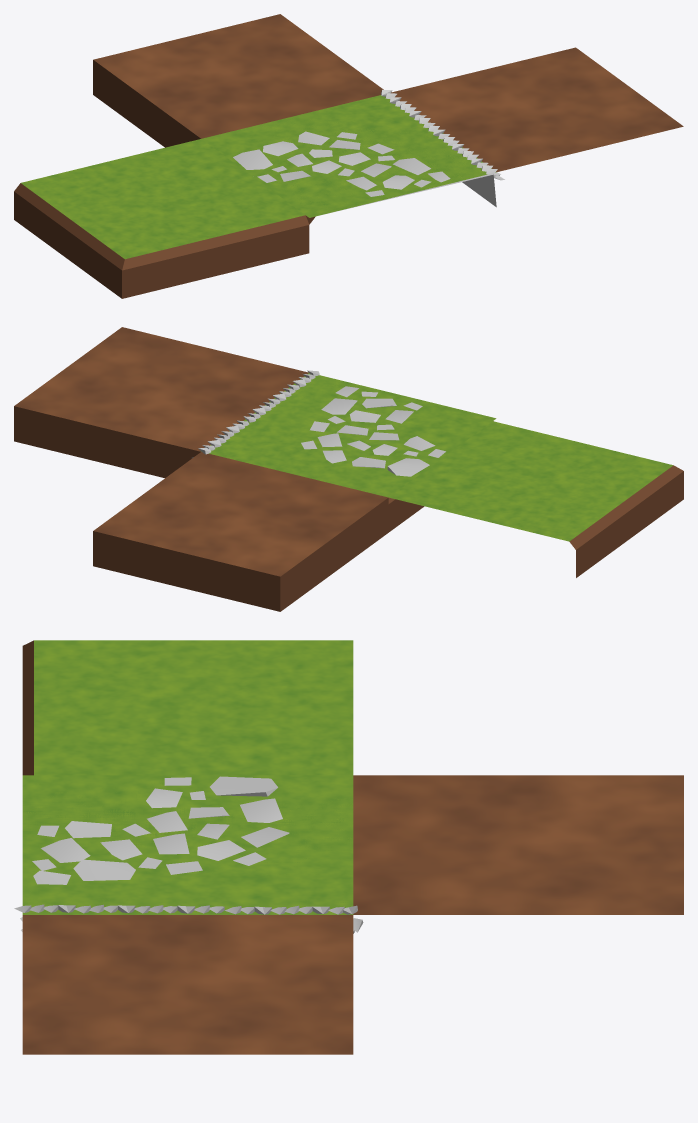
Rendered from Ground_Tiles.fbx.
The picture shows the model from 3 angles, top to bottom: view 1: azimuth 30°, elevation 25°; view 2: azimuth 150°, elevation 25°; view 3: azimuth 270°, elevation 25°; orthographic projection. The views are drawn at different scales.
Visible parts, largest first — view 1: grass_tile_corner, ground_tile_corner, ground_tile_side, road_tile_center_straight, grass_tile_side, road_tile_side_turn_right, grass_tile_center; view 2: ground_tile_corner, ground_tile_side, grass_tile_corner, grass_tile_center, road_tile_center_straight, road_tile_side_turn_right, grass_tile_side; view 3: ground_tile_side, ground_tile_corner, grass_tile_corner, grass_tile_side, road_tile_center_straight, road_tile_side_turn_right, grass_tile_center.
Part boxes in pixels (left/top/right/bottom): grass_tile_corner: left=14, top=139, right=309, bottom=298; ground_tile_corner: left=93, top=14, right=383, bottom=147; ground_tile_side: left=391, top=47, right=683, bottom=171; road_tile_center_straight: left=201, top=108, right=495, bottom=217; grass_tile_side: left=251, top=95, right=491, bottom=224; road_tile_side_turn_right: left=233, top=89, right=504, bottom=215; grass_tile_center: left=250, top=127, right=483, bottom=217; ground_tile_corner: left=93, top=452, right=388, bottom=611; ground_tile_side: left=14, top=327, right=308, bottom=477; grass_tile_corner: left=389, top=421, right=683, bottom=577; grass_tile_center: left=201, top=373, right=496, bottom=483; road_tile_center_straight: left=241, top=373, right=487, bottom=497; road_tile_side_turn_right: left=192, top=370, right=445, bottom=476; grass_tile_side: left=301, top=375, right=493, bottom=532; ground_tile_side: left=22, top=915, right=353, bottom=1054; ground_tile_corner: left=353, top=775, right=683, bottom=914; grass_tile_corner: left=22, top=640, right=353, bottom=775; grass_tile_side: left=22, top=780, right=353, bottom=914; road_tile_center_straight: left=22, top=775, right=353, bottom=914; road_tile_side_turn_right: left=14, top=776, right=363, bottom=933; grass_tile_center: left=22, top=775, right=353, bottom=900.
Size of the model in its own units: 600 by 39.7 by 405.
